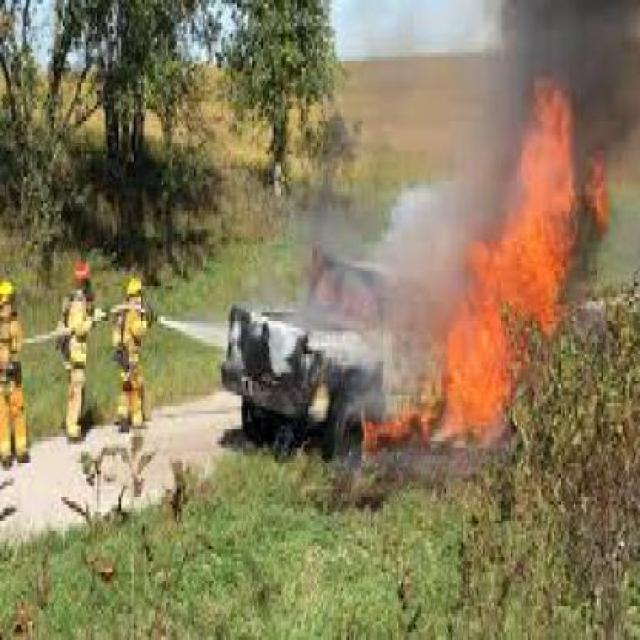Fire: (384, 175, 612, 446)
Smoke: (455, 3, 624, 112)
